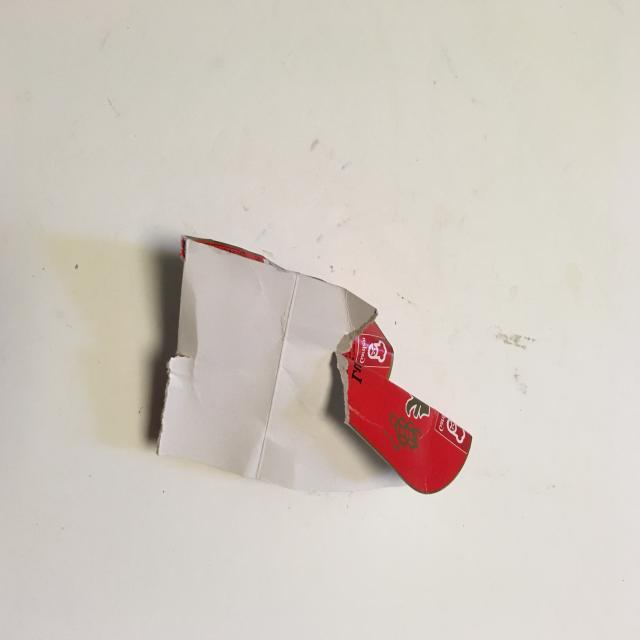paper: (101, 191, 492, 548)
